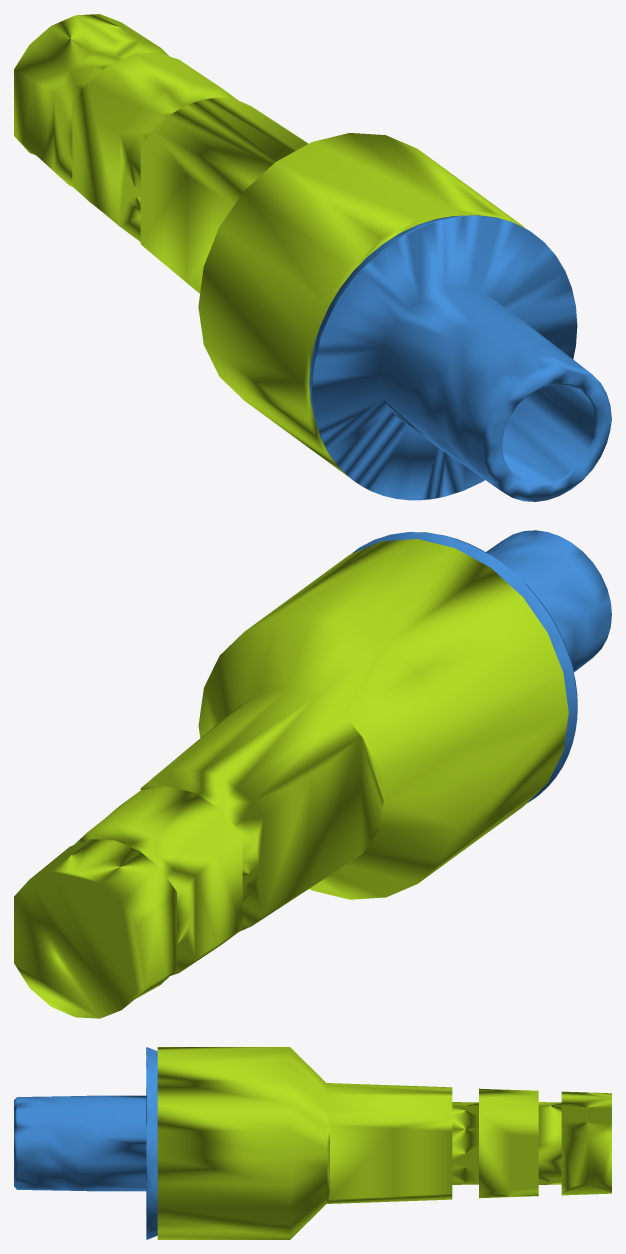
File: 5.7_impl_parallel.obj
3 views of the same model, one above another, from view 1: azimuth 30°, elevation 25°; view 2: azimuth 150°, elevation 25°; view 3: azimuth 270°, elevation 25° (orthographic). The views are drawn at different scales.
Size of the model in its own units: 5.82 by 5.82 by 18.06.
